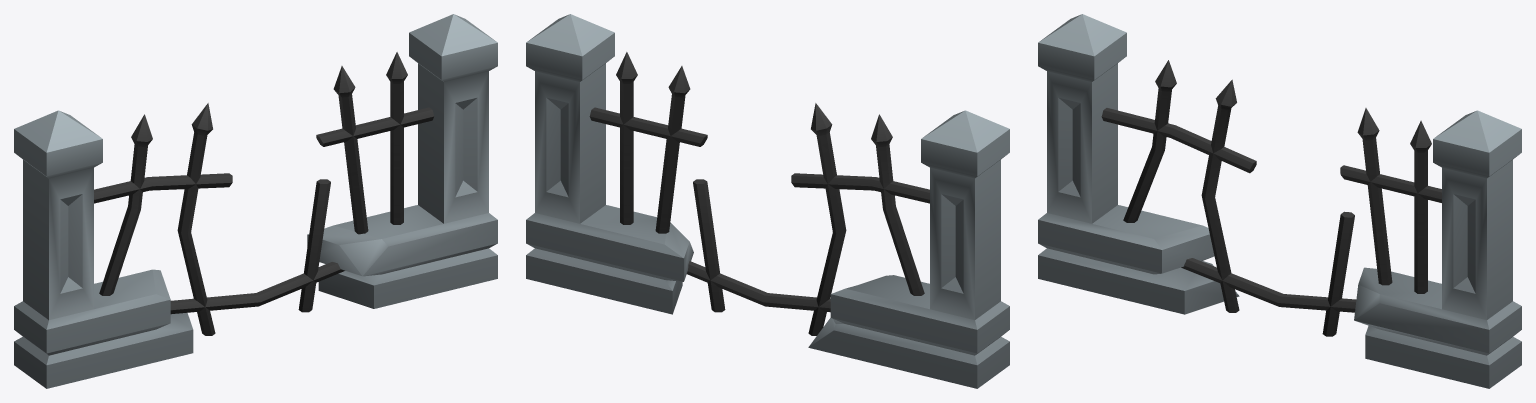
The model's file is fence_broken.obj.
3 renders of one model, left to right at view 1: azimuth 30°, elevation 25°; view 2: azimuth 150°, elevation 25°; view 3: azimuth 330°, elevation 25°, orthographic.
Visible parts, largest first — view 1: fence_broken_Cube.071; view 2: fence_broken_Cube.071; view 3: fence_broken_Cube.071.
Part boxes in pixels (x1,y1,x2,y2): fence_broken_Cube.071: [14, 14, 497, 388]; fence_broken_Cube.071: [526, 14, 1009, 388]; fence_broken_Cube.071: [1038, 14, 1521, 388].
Bounding box in the file's own units: 4 × 2.2 × 0.5.
Materials: 1 (1 with a texture image).
